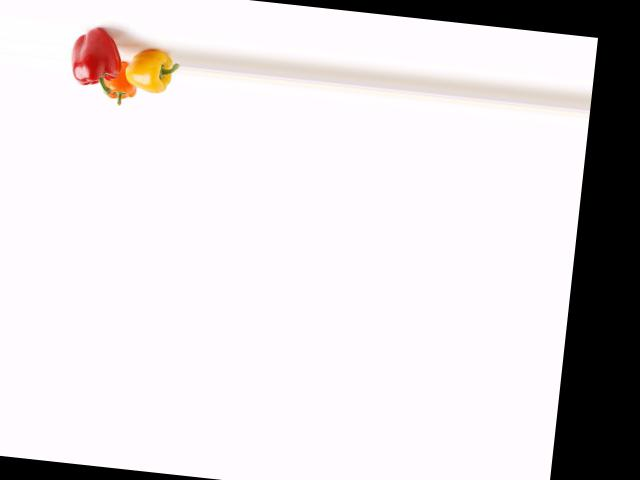bell_pepper: (66, 19, 127, 101)
